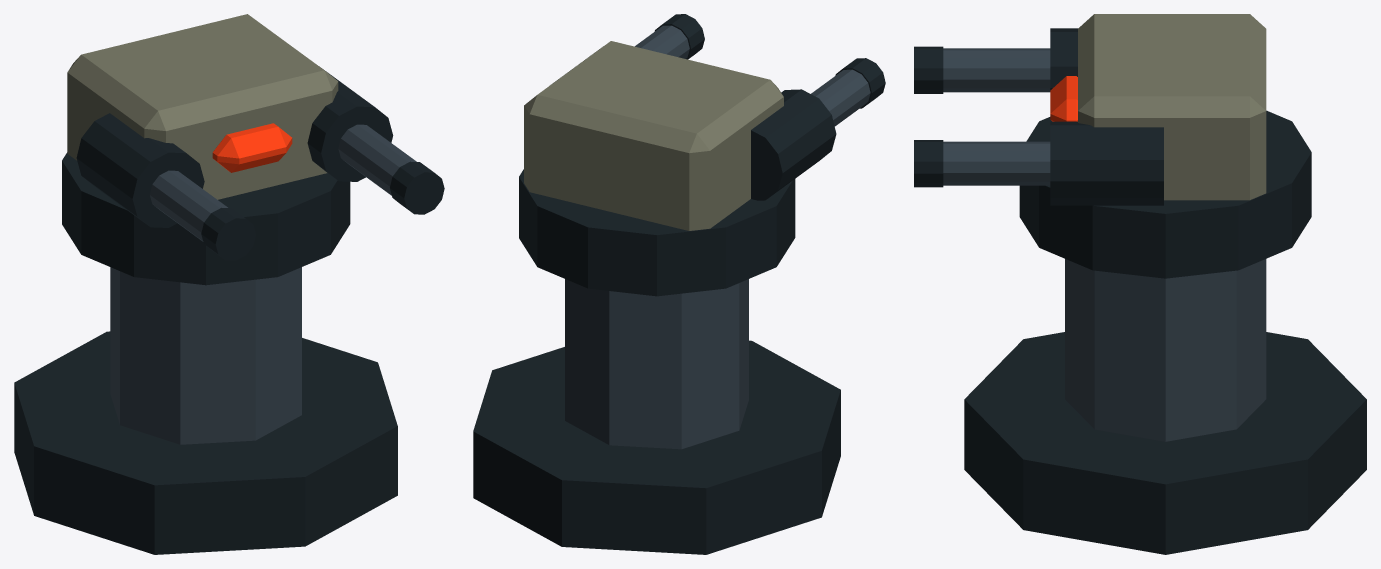
The model's file is turret.obj.
3 views of the same model, side by side, from view 1: azimuth 30°, elevation 25°; view 2: azimuth 150°, elevation 25°; view 3: azimuth 270°, elevation 25° (orthographic). The views are drawn at different scales.
Visible parts, largest first — view 1: Dogleg_Turret; view 2: Dogleg_Turret; view 3: Dogleg_Turret.
Part boxes in pixels (x1,y1,x2,y2): Dogleg_Turret: (14, 14, 444, 554); Dogleg_Turret: (473, 14, 885, 554); Dogleg_Turret: (914, 14, 1366, 554).
Size of the model in its own units: 1.24 by 1.41 by 1.39.
